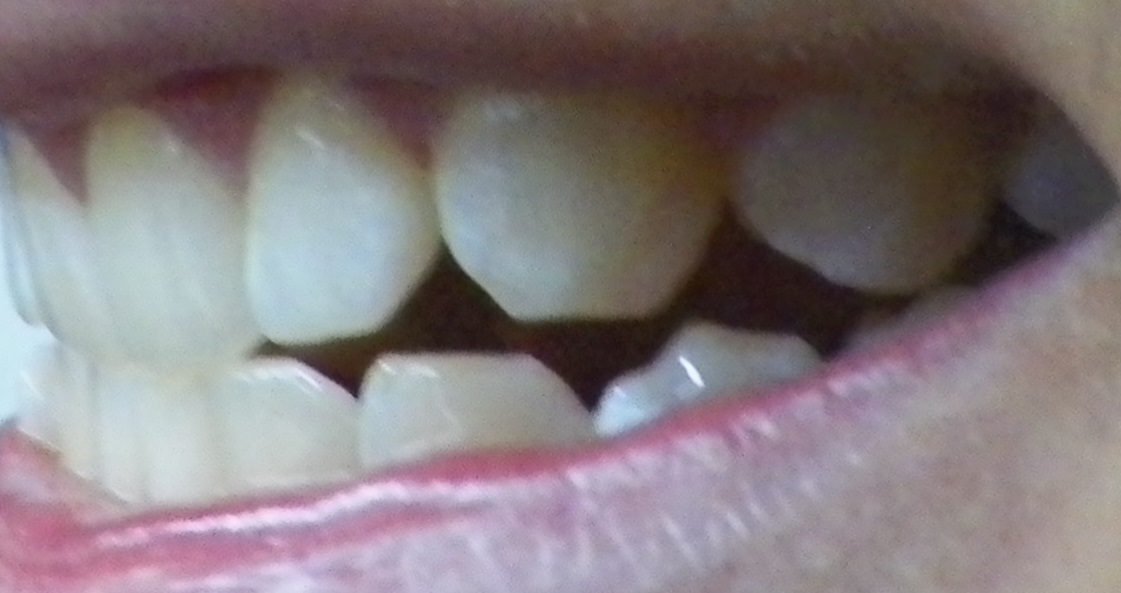boca: (6, 90, 1093, 502)
